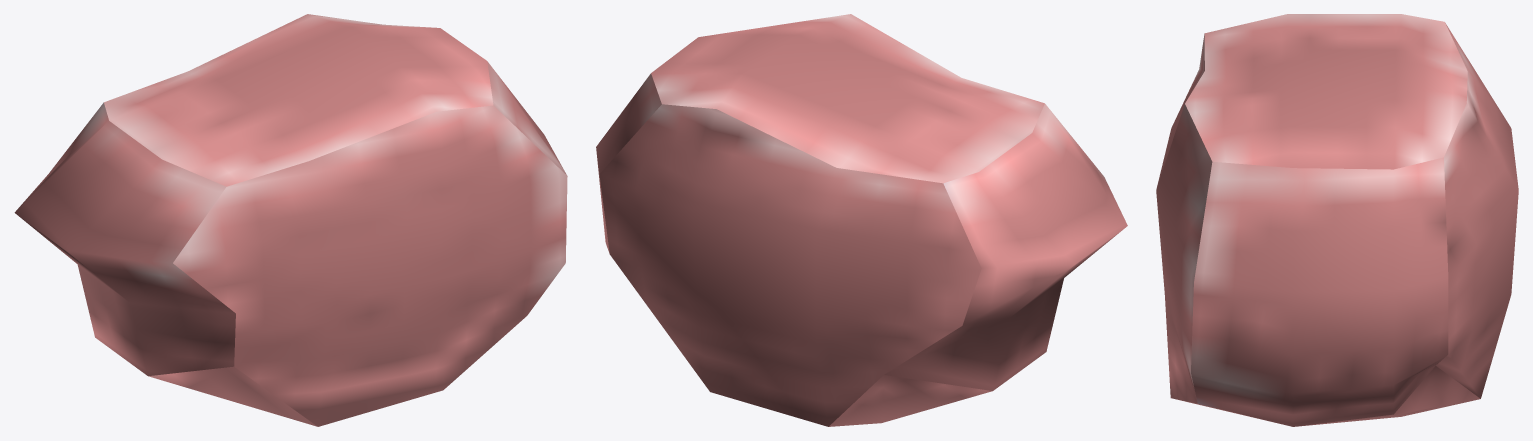
File: split_poling2.fbx
3 views of the same model, side by side, from view 1: azimuth 30°, elevation 25°; view 2: azimuth 150°, elevation 25°; view 3: azimuth 270°, elevation 25° (orthographic). The views are drawn at different scales.
Parts seen in each view (by area): view 1: pCube13; view 2: pCube13; view 3: pCube13.
Part boxes in pixels (bbox=[...]): pCube13: bbox=[14, 14, 567, 426]; pCube13: bbox=[596, 14, 1127, 426]; pCube13: bbox=[1156, 14, 1518, 426].
Bounding box in the file's own units: 116 × 71.4 × 70.4.
